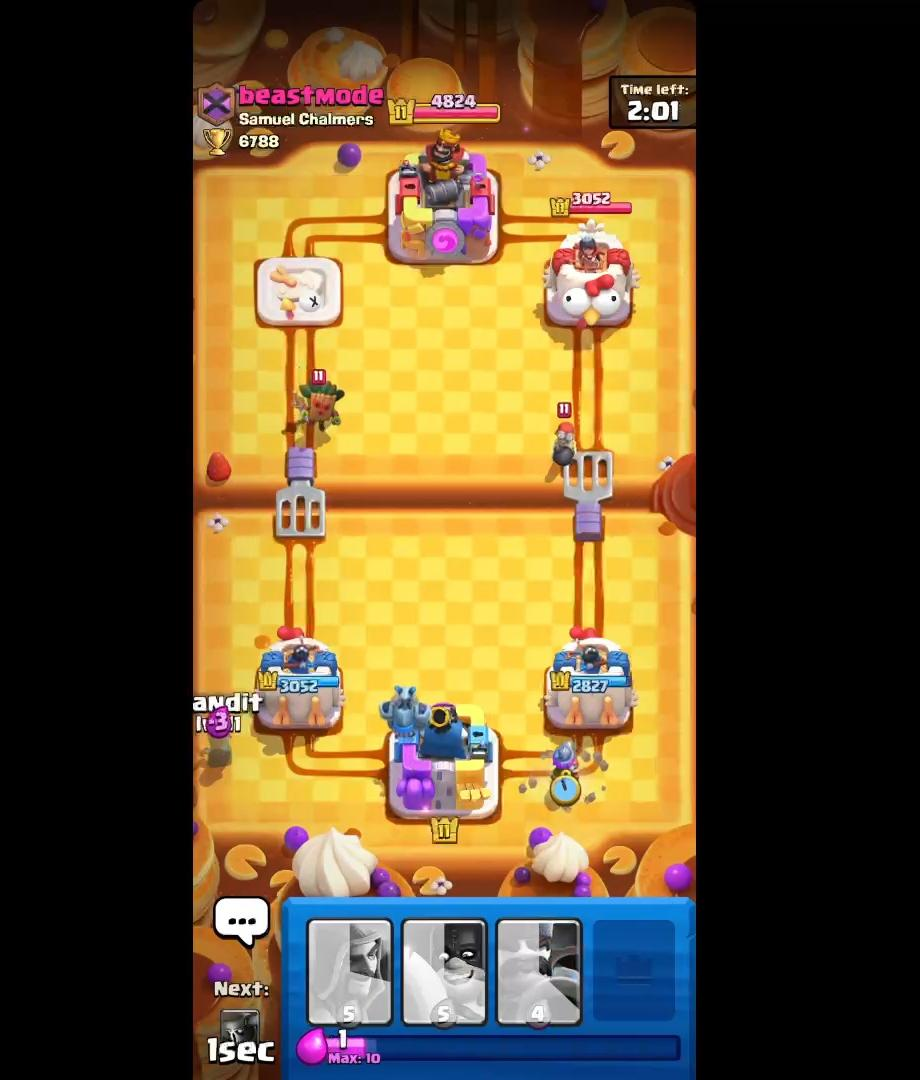Bomber: (544, 398, 586, 467)
Dart Goblin: (294, 366, 346, 435)
